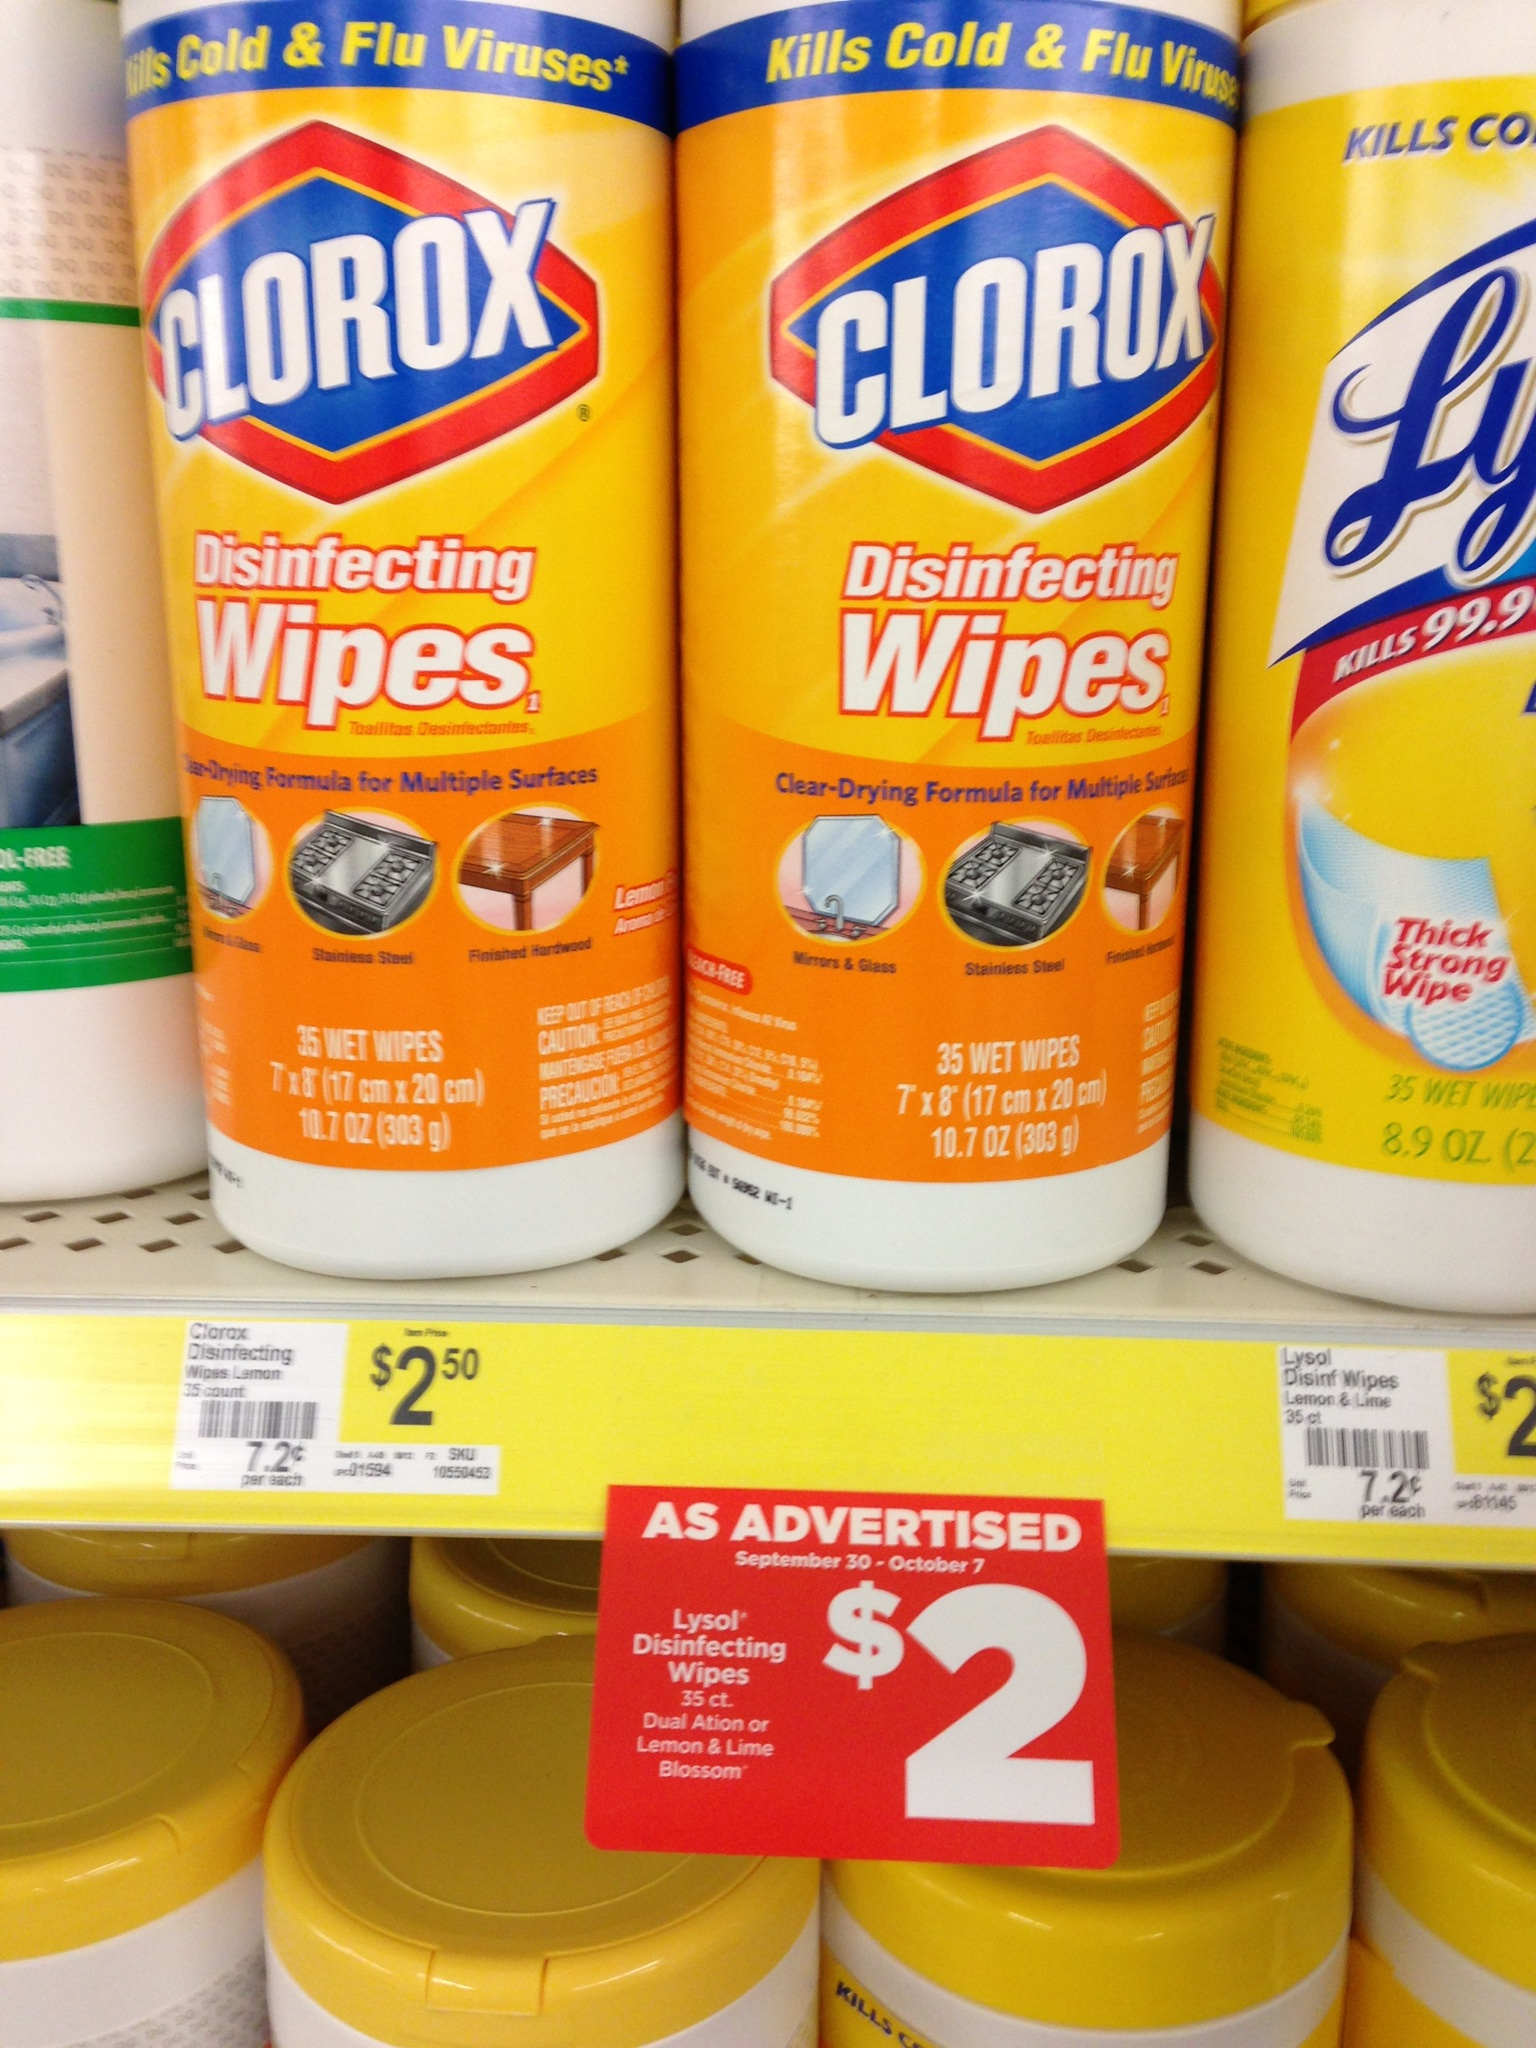Wipes: (102, 2, 679, 1292), (665, 3, 1179, 1298), (1173, 8, 1536, 1326), (250, 1625, 828, 2048), (815, 1614, 1354, 2048), (3, 1585, 311, 2048), (1357, 1622, 1536, 2045), (5, 1511, 411, 1687), (1236, 1546, 1536, 1679), (386, 1521, 600, 1687), (1108, 1529, 1234, 1653)
